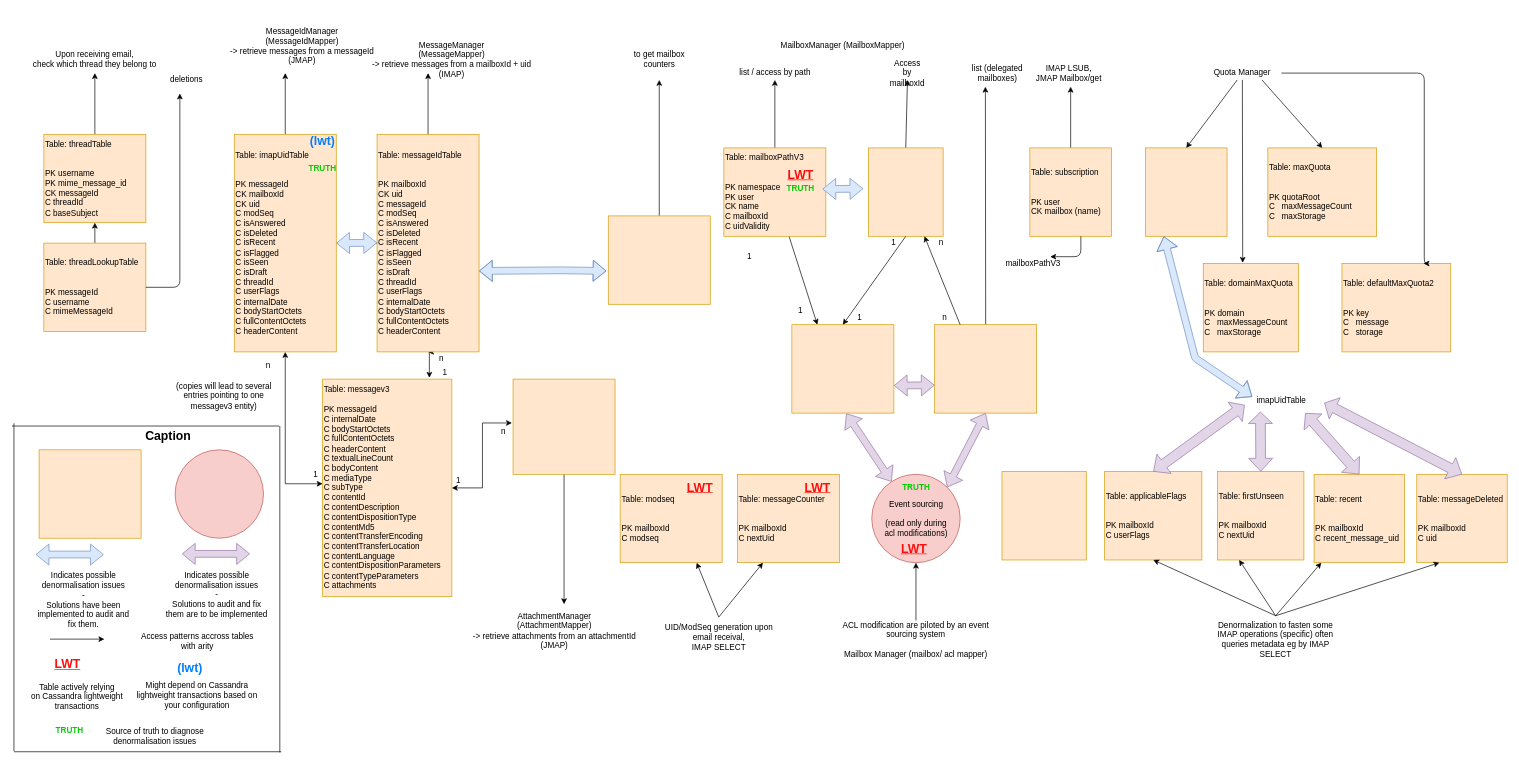
This 1519x768 diagram has some shape labels left out. The centre of each missing label's shape, as x and y in pixels:
Entities managed by an Event Sourcing aggregate: the point at 219,493
Table: acl PK mailboxId C rights: the point at 842,368
Table: annotation PK mailboxId C key C value: the point at 1043,515
Table: attachmentV2 PK idAsUuid C id C blobId C type C size C messageId: the point at 563,426
Table: currentQuota PK quotaRoot C messageCount C storage: the point at 1186,191
Table: example table PK username CK mailboxId C right C mailboxId C uidValidity: the point at 89,493
Table: mailbox PK mailboxId C namespace C user C name C uidValidity: the point at 905,191
Table: mailboxCounter PK namespace PK user CK name C mailboxId C uidValidity: the point at 659,259
Table: userMailboxACL PK username PK mailboxId C rights: the point at 985,368
